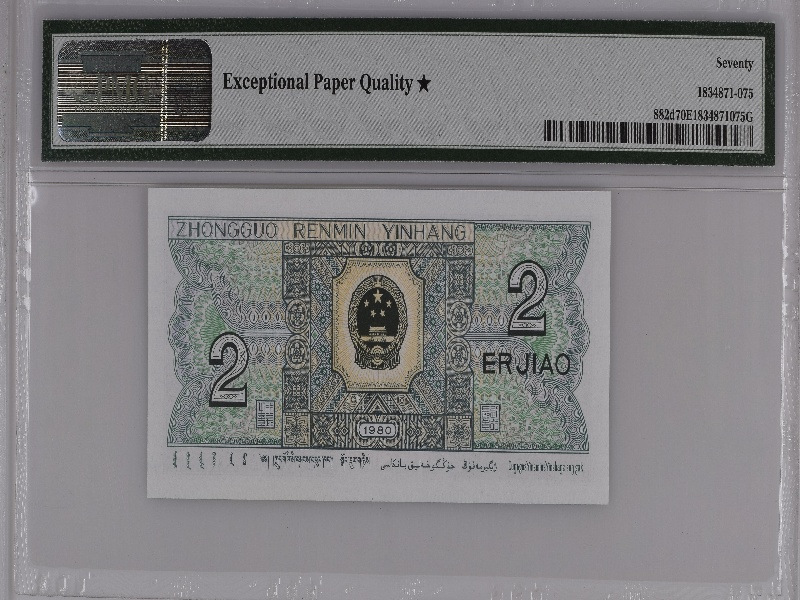papernote: (144, 180, 613, 508)
